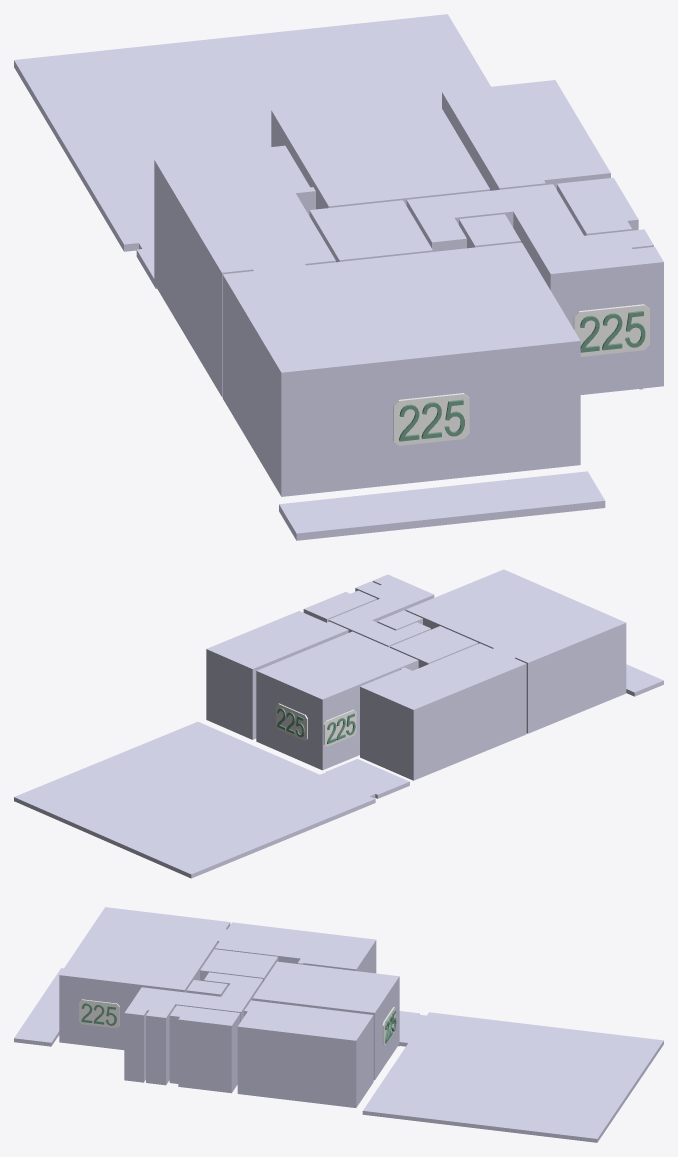
The picture shows the model from 3 angles, top to bottom: view 1: azimuth 30°, elevation 25°; view 2: azimuth 150°, elevation 25°; view 3: azimuth 270°, elevation 25°; orthographic projection. The views are drawn at different scales.
Parts seen in each view (by area): view 1: g_1, g_9, g_0, g_4, g_6, g_7, g_8, g_2, g_5, g_13, g_25, g_3; view 2: g_9, g_1, g_0, g_6, g_7, g_4, g_2, g_5, g_8, g_17, g_29, g_3; view 3: g_9, g_1, g_7, g_6, g_4, g_5, g_0, g_8, g_2, g_21, g_3.
Part boxes in pixels (<box>): g_1: <box>222,242,580,496</box>; g_9: <box>14,14,490,288</box>; g_0: <box>154,145,335,396</box>; g_4: <box>406,184,663,394</box>; g_6: <box>271,93,489,209</box>; g_7: <box>442,80,610,190</box>; g_8: <box>279,471,605,540</box>; g_2: <box>309,200,432,262</box>; g_5: <box>557,177,638,235</box>; g_13: <box>393,393,469,445</box>; g_25: <box>573,304,649,356</box>; g_3: <box>459,214,520,248</box>; g_9: <box>14,721,409,878</box>; g_1: <box>405,569,626,733</box>; g_0: <box>360,643,526,780</box>; g_6: <box>256,631,418,770</box>; g_7: <box>206,611,348,739</box>; g_4: <box>328,574,434,647</box>; g_2: <box>390,626,478,667</box>; g_5: <box>303,590,376,622</box>; g_8: <box>626,664,663,696</box>; g_17: <box>323,709,356,746</box>; g_29: <box>276,703,307,740</box>; g_3: <box>377,610,422,630</box>; g_9: <box>362,1011,663,1142</box>; g_1: <box>59,907,230,1049</box>; g_7: <box>237,1000,373,1107</box>; g_6: <box>252,961,399,1080</box>; g_4: <box>124,972,263,1085</box>; g_5: <box>169,1005,240,1093</box>; g_0: <box>215,922,376,973</box>; g_8: <box>14,968,63,1046</box>; g_2: <box>200,949,278,981</box>; g_21: <box>79,999,119,1028</box>; g_3: <box>186,980,227,996</box>.
Bounding box in the file's own units: 14.01 × 2.74 × 22.52.
